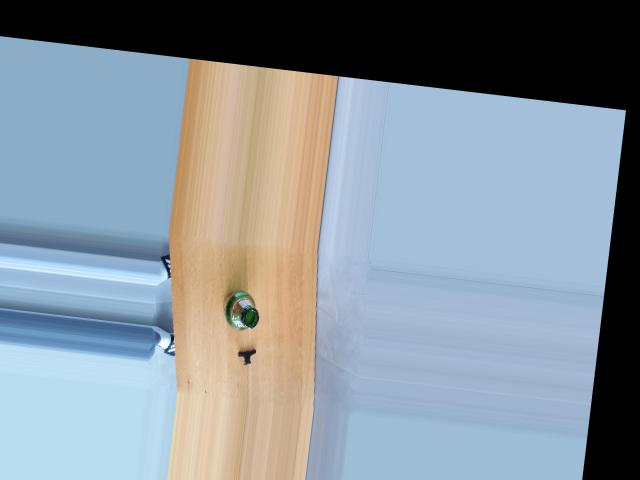beer: (219, 288, 261, 333)
